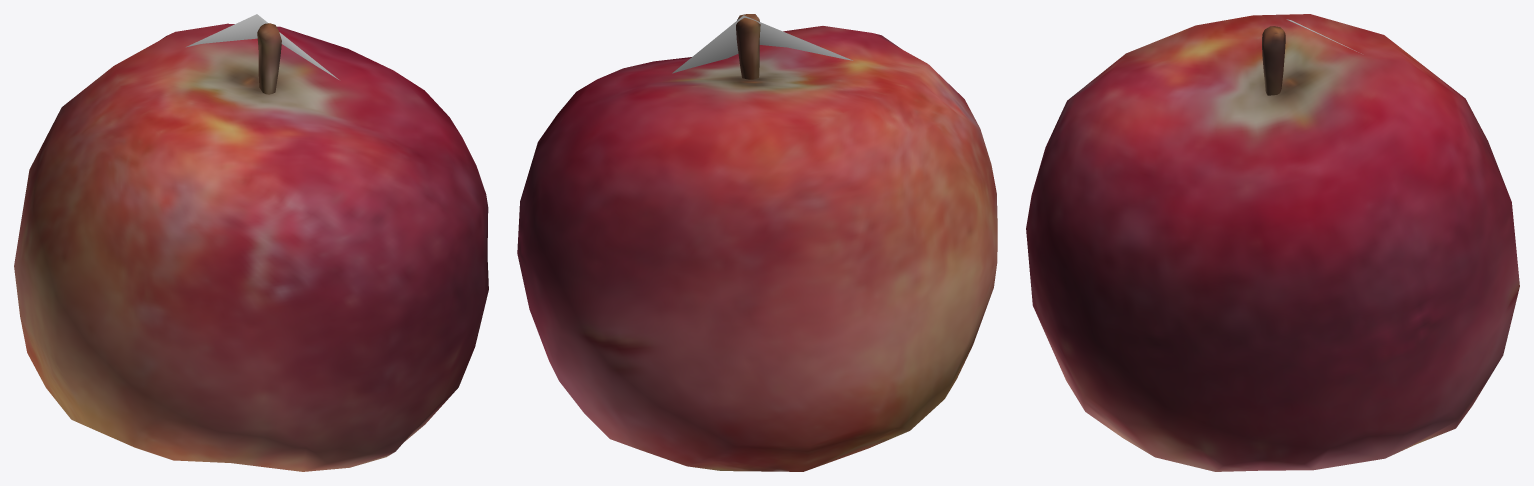
Rendered from SM_Apple.gltf.
3 renders of one model, left to right at view 1: azimuth 30°, elevation 25°; view 2: azimuth 150°, elevation 25°; view 3: azimuth 270°, elevation 25°, orthographic.
Parts seen in each view (by area): view 1: SM_Apple_LOD0, SM_Apple_ConvexHulls; view 2: SM_Apple_LOD0, SM_Apple_ConvexHulls; view 3: SM_Apple_LOD0.
Boxes of the visible parts, left/top/right/bottom form: SM_Apple_LOD0: left=14, top=23, right=488, bottom=471; SM_Apple_ConvexHulls: left=186, top=14, right=338, bottom=79; SM_Apple_LOD0: left=517, top=14, right=997, bottom=471; SM_Apple_ConvexHulls: left=672, top=15, right=852, bottom=73; SM_Apple_LOD0: left=1026, top=14, right=1519, bottom=471.
Size of what is drawn, in the model's own units: 0.1548 by 0.1417 by 0.1587.
